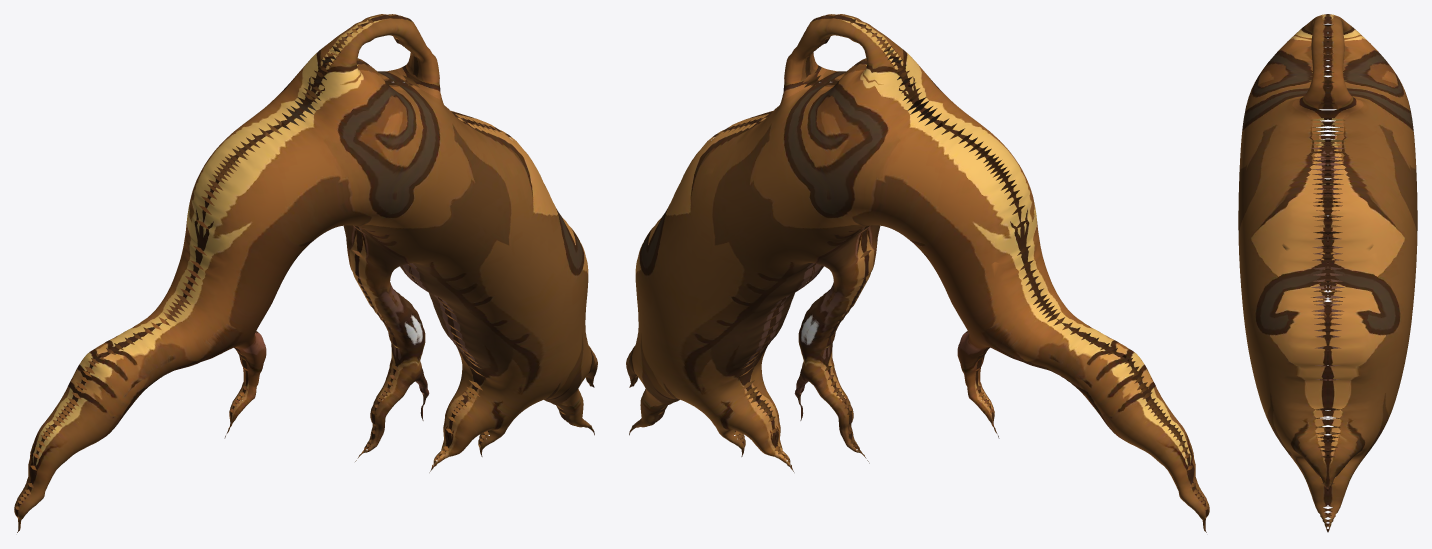
File: root_arch.glb
3 views of the same model, side by side, from view 1: azimuth 30°, elevation 25°; view 2: azimuth 150°, elevation 25°; view 3: azimuth 270°, elevation 25° (orthographic). The views are drawn at different scales.
Parts seen in each view (by area): view 1: root_arch; view 2: root_arch; view 3: root_arch.
Boxes of the visible parts, <box> form: root_arch: <box>14,14,597,532</box>; root_arch: <box>626,14,1209,532</box>; root_arch: <box>1238,14,1417,532</box>.
Bounding box in the file's own units: 0.9813 × 0.7615 × 0.2934.
Materials: 1 (1 with a texture image).
